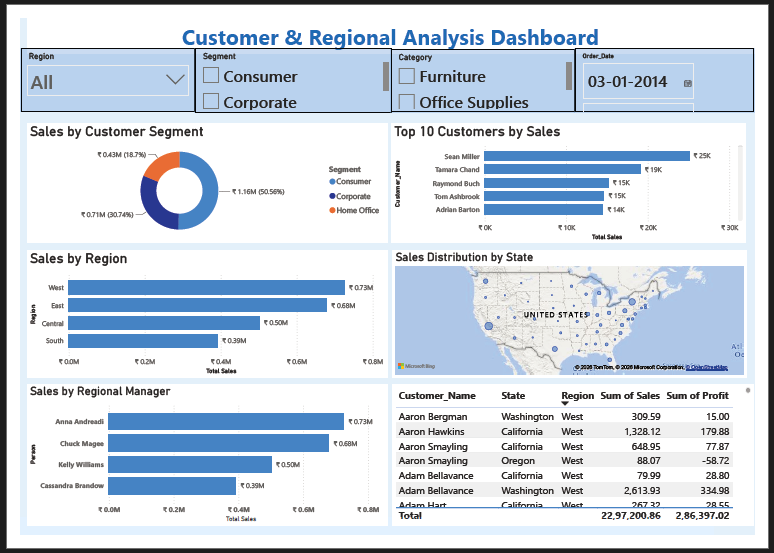

This screenshot's page, from the dashboard's own definition file:
{"tool":"powerbi","page":{"name":"Customer & Regional Analysis","canvas":[1280,900],"ordinal":2},"visuals":[{"type":"textbox","box":[10.8,0,1269.2,60],"z":0},{"type":"donutChart","title":"Sales by Customer Segment","fields":{"Category":["Orders.Segment"],"Y":["Orders.Total Sales"]},"box":[10.5,182.5,629.8,208.8],"z":1000},{"type":"clusteredBarChart","title":"Top 10 Customers by Sales","fields":{"Category":["Orders.Customer_Name"],"Y":["Orders.Total Sales"]},"box":[647.4,182.5,617.5,208.8],"z":2000},{"type":"slicer","fields":{"Values":["Orders.Region"]},"box":[0,52,304,110],"z":3000},{"type":"slicer","fields":{"Values":["Orders.Segment"]},"box":[304,52,344,112],"z":4000},{"type":"slicer","fields":{"Values":["Orders.Category"]},"box":[645.6,52.6,321.1,110.5],"z":5000},{"type":"slicer","fields":{"Values":["Orders.Order_Date"]},"box":[966.7,51.9,313,111.1],"z":6000},{"type":"clusteredBarChart","title":"Sales by Region","fields":{"Category":["Orders.Region"],"Y":["Orders.Total Sales"]},"box":[11,404.3,629.3,221.3],"z":7000},{"type":"map","title":"Sales Distribution by State","fields":{"Category":["Orders.State"],"Size":["Orders.Total Sales"]},"box":[649.4,404.3,616.5,221.3],"z":8000},{"type":"clusteredBarChart","title":"Sales by Regional Manager","fields":{"Category":["People.Person"],"Y":["Orders.Total Sales"]},"box":[11,638.4,629.3,245.1],"z":9000},{"type":"tableEx","fields":{"Values":["Orders.Customer_Name","Orders.State","Orders.Region","Sum(Orders.Sales)","Sum(Orders.Profit)"]},"box":[649.4,638.4,629.3,245.1],"z":10000}]}

Visuals, with their boxes in screenshot pixels (x1, y1, x2, y2), scaled from the page's 1280x900 canvas onto the 774x553 screenshot:
textbox: detection(7, 0, 773, 37)
"Sales by Customer Segment" donutChart: detection(6, 112, 387, 240)
"Top 10 Customers by Sales" clusteredBarChart: detection(391, 112, 765, 240)
slicer - Orders.Region: detection(0, 32, 184, 100)
slicer - Orders.Segment: detection(184, 32, 392, 101)
slicer - Orders.Category: detection(390, 32, 585, 100)
slicer - Orders.Order_Date: detection(585, 32, 773, 100)
"Sales by Region" clusteredBarChart: detection(7, 248, 387, 384)
"Sales Distribution by State" map: detection(393, 248, 765, 384)
"Sales by Regional Manager" clusteredBarChart: detection(7, 392, 387, 543)
tableEx - Orders.Customer_Name x Orders.State: detection(393, 392, 773, 543)
